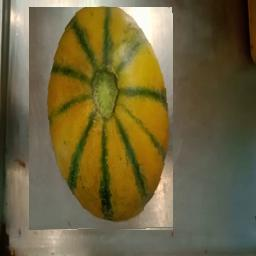Melon Fresh: (30, 8, 174, 231)
